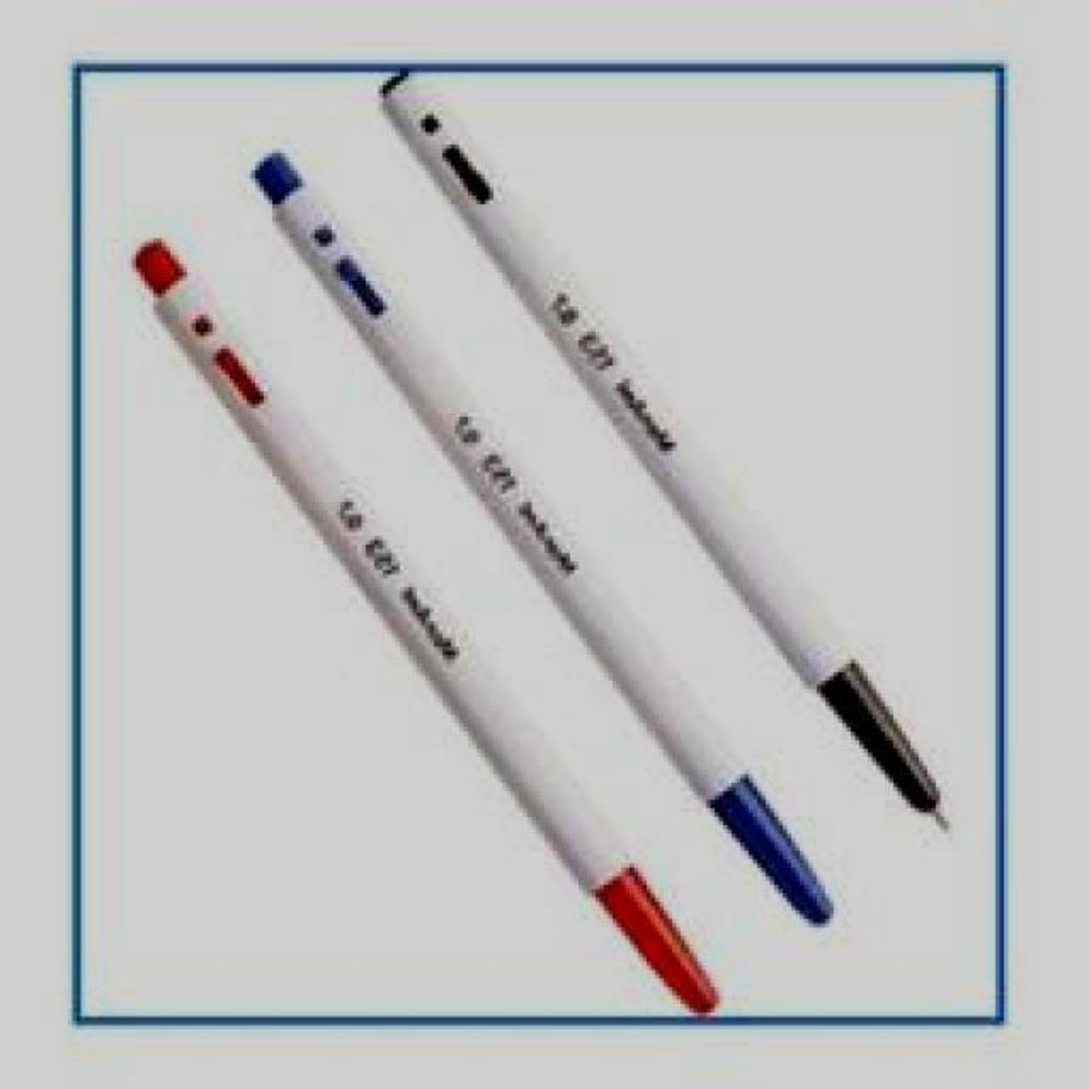pen: (379, 73, 958, 844)
